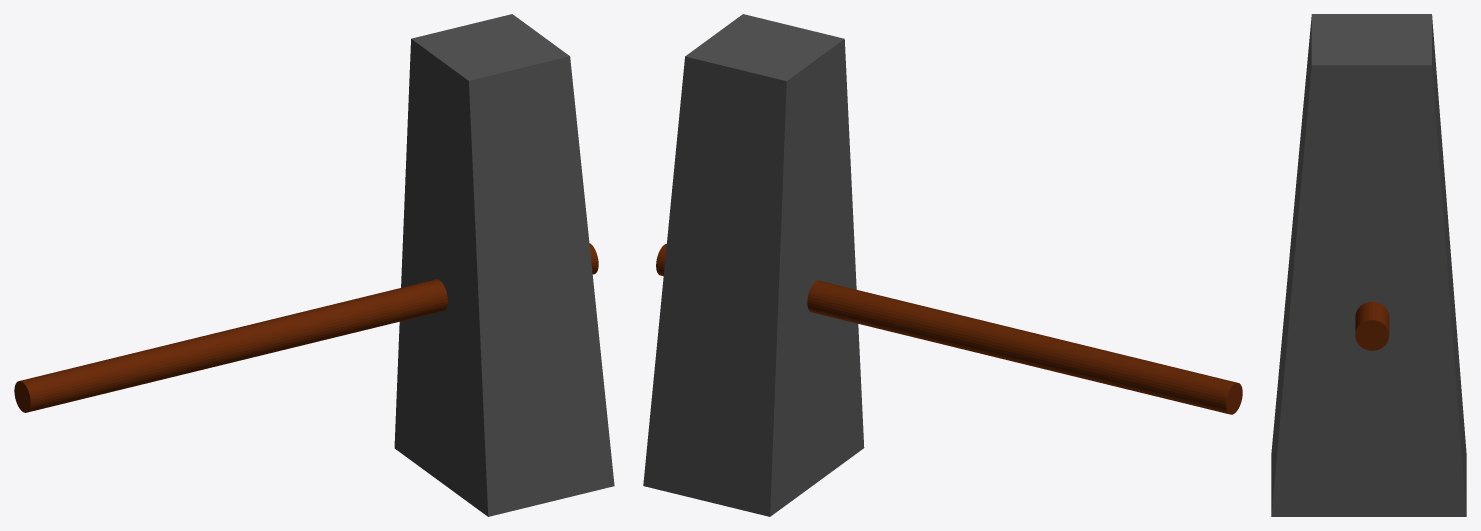
The model's file is Hammer.fbx.
The picture shows the model from 3 angles, left to right: view 1: azimuth 30°, elevation 25°; view 2: azimuth 150°, elevation 25°; view 3: azimuth 270°, elevation 25°; orthographic projection. The views are drawn at different scales.
Parts seen in each view (by area): view 1: Hammer; view 2: Hammer; view 3: Hammer.
Boxes of the visible parts, x1,y1,x2,y2 form: Hammer: (14, 14, 614, 516); Hammer: (643, 14, 1242, 516); Hammer: (1271, 14, 1466, 516).
Bounding box in the file's own units: 401 × 285 × 115.
